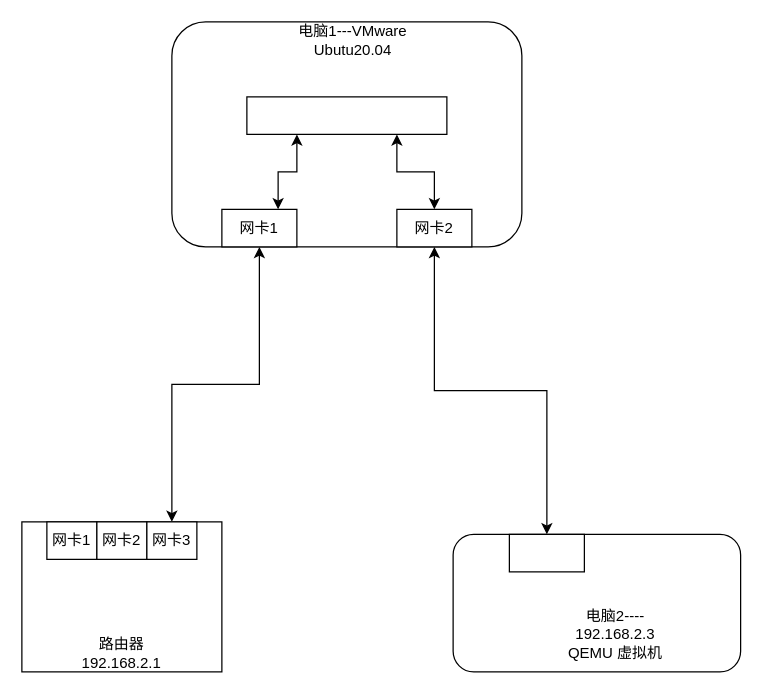
The diagram is 763 pixels wide and 694 high, and some of its shapes have lost their labels. The shapes that lost their labels are listed below. From the top down, each one's centre as x and y in pixels, then its label:
point (346, 115): 网桥：192.168.2.2
point (546, 552): 网卡
